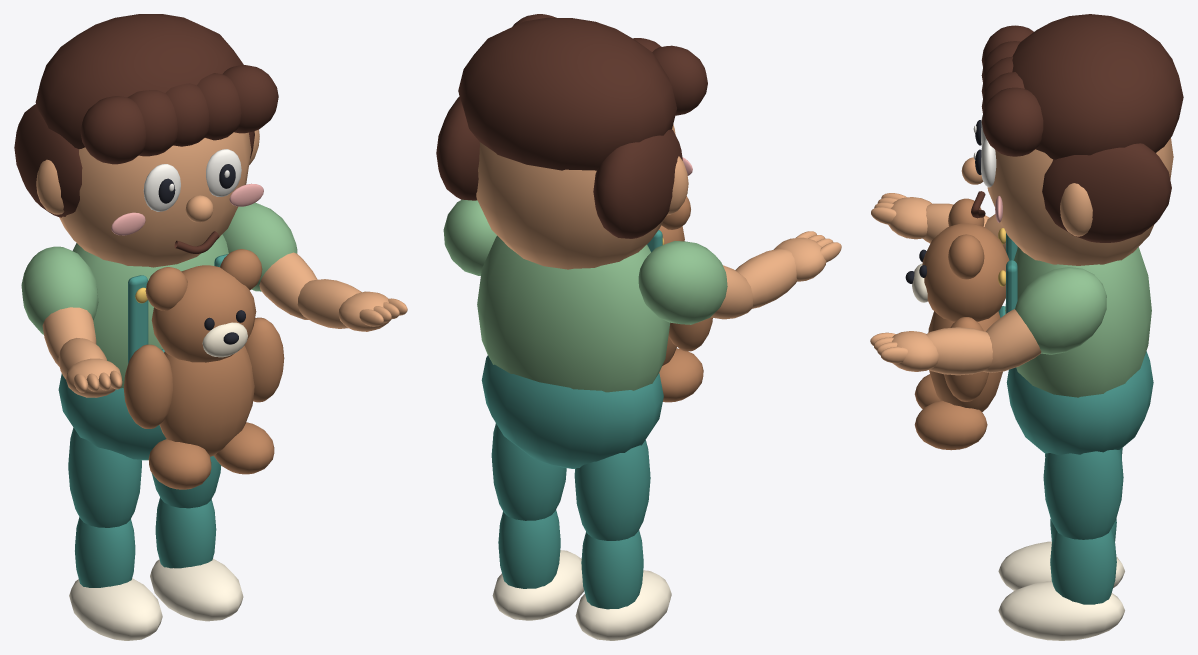
The model's file is daddy-hug.glb.
The picture shows the model from 3 angles, left to right: view 1: azimuth 30°, elevation 25°; view 2: azimuth 150°, elevation 25°; view 3: azimuth 270°, elevation 25°; orthographic projection. The views are drawn at different scales.
Visible parts, largest first — view 1: hair cap, clay head, bear tummy, bear head, trouser leg, soft shirt, shirt sleeve, overalls, little shoe, little shoe.001, bob hair, fringe (+28 smaller); view 2: hair cap, soft shirt, clay head, overalls, bob hair, shirt sleeve, trouser leg, trouser leg.001, lower leg.001, lower leg, little shoe, little shoe.001 (+9 smaller); view 3: hair cap, soft shirt, bob hair.001, overalls, clay head, trouser leg.001, shirt sleeve.001, bear head, little shoe.001, lower leg.001, fringe.004, bear foot.001 (+18 smaller).
Boxes of the visible parts, <box> form: hair cap: <box>35,14,243,149</box>; clay head: <box>59,132,251,267</box>; bear tummy: <box>159,346,254,456</box>; bear head: <box>151,265,256,362</box>; trouser leg: <box>68,427,141,527</box>; soft shirt: <box>72,234,228,388</box>; shirt sleeve: <box>21,246,98,334</box>; overalls: <box>58,373,166,460</box>; little shoe: <box>69,578,162,640</box>; little shoe.001: <box>150,558,243,621</box>; bob hair: <box>14,104,82,217</box>; fringe: <box>80,96,145,164</box>; hair cap: <box>458,17,676,170</box>; soft shirt: <box>477,235,670,392</box>; clay head: <box>476,124,675,269</box>; overalls: <box>481,355,663,468</box>; bob hair: <box>593,129,682,238</box>; shirt sleeve: <box>638,241,727,324</box>; trouser leg: <box>574,440,650,540</box>; trouser leg.001: <box>491,423,566,520</box>; lower leg.001: <box>498,510,560,588</box>; lower leg: <box>581,530,643,609</box>; little shoe: <box>575,570,671,640</box>; little shoe.001: <box>492,550,583,620</box>; hair cap: <box>1012,14,1183,159</box>; soft shirt: <box>1005,247,1151,397</box>; bob hair.001: <box>1042,143,1171,242</box>; overalls: <box>1006,351,1153,454</box>; clay head: <box>986,138,1173,265</box>; trouser leg.001: <box>1043,449,1123,539</box>; shirt sleeve.001: <box>1015,267,1106,354</box>; bear head: <box>922,223,1009,321</box>; little shoe.001: <box>998,581,1124,640</box>; lower leg.001: <box>1050,529,1116,604</box>; fringe.004: <box>981,87,1043,156</box>; bear foot.001: <box>914,400,987,450</box>.
Bounding box in the file's own units: 1.25 × 2.14 × 1.03.
